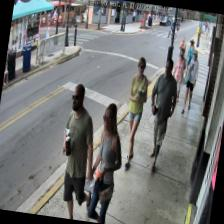person: (52, 82, 104, 221), (83, 100, 129, 224), (142, 57, 182, 170), (119, 56, 152, 170), (181, 48, 201, 114), (169, 47, 188, 102)
